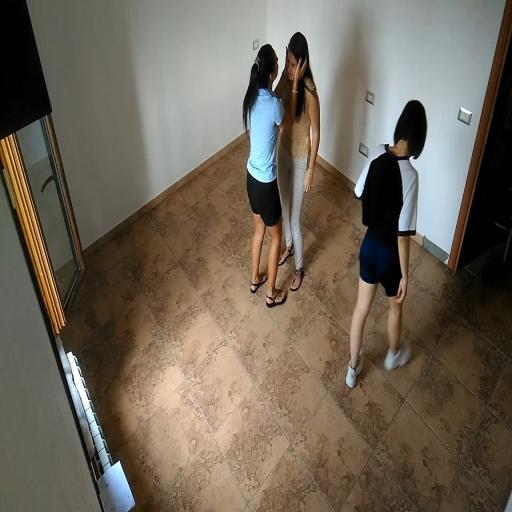nao-violencia: (224, 23, 332, 318)
